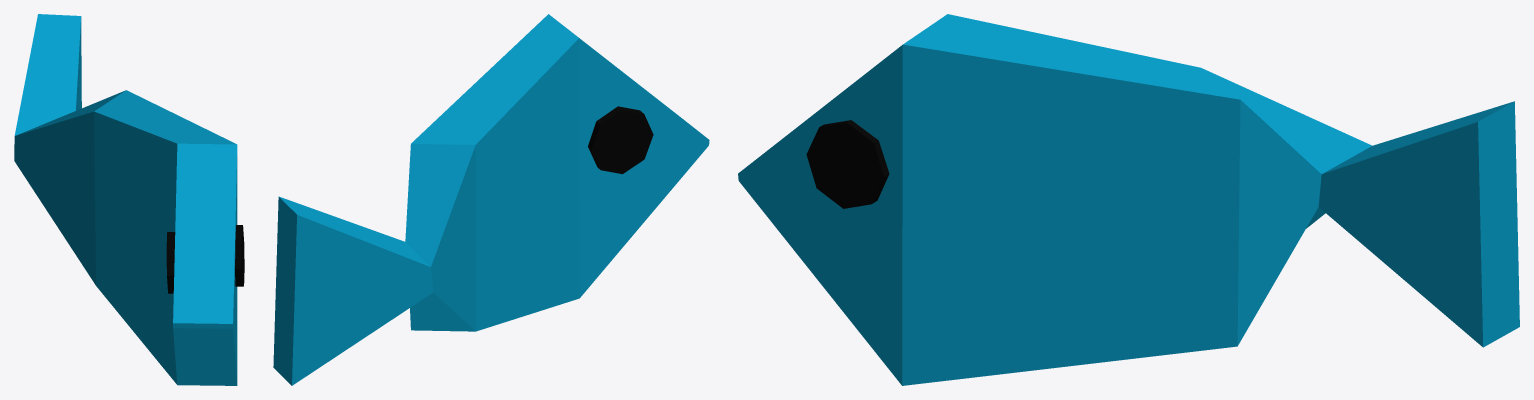
File: Fish.fbx
3 renders of one model, left to right at view 1: azimuth 30°, elevation 25°; view 2: azimuth 150°, elevation 25°; view 3: azimuth 270°, elevation 25°, orthographic. The views are drawn at different scales.
Visible parts, largest first — view 1: 立方体.010; view 2: 立方体.010; view 3: 立方体.010.
Part boxes in pixels (box(x1,y1,x2,y2)): 立方体.010: box(14, 14, 244, 385); 立方体.010: box(273, 14, 709, 385); 立方体.010: box(738, 14, 1519, 385).
Bounding box in the file's own units: 4.24 × 6.24 × 12.95.
